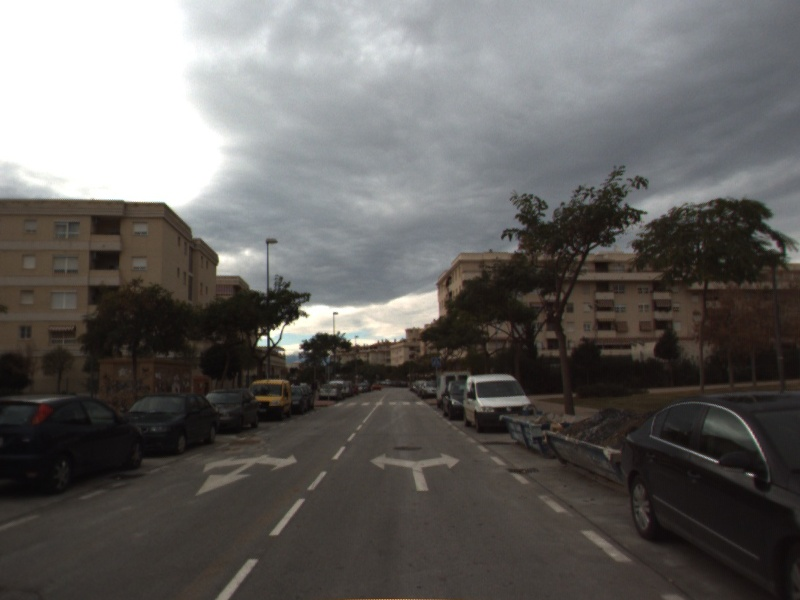LEFT_RIGHT: (367, 450, 462, 493)
